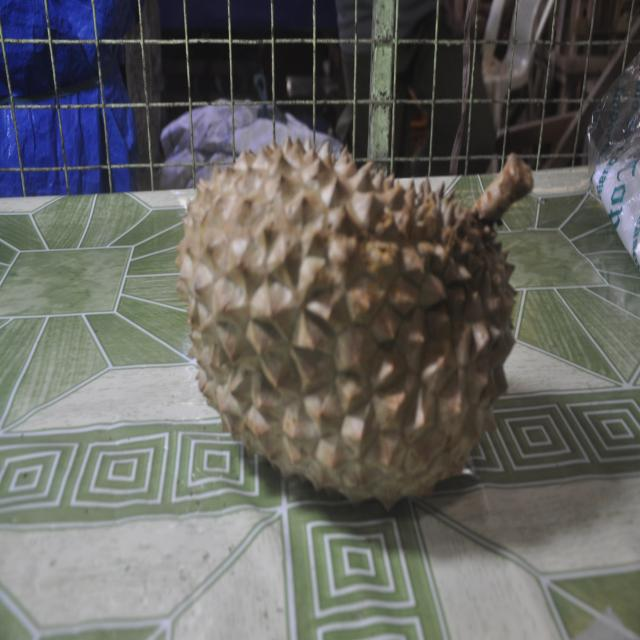mature: (176, 138, 532, 508)
